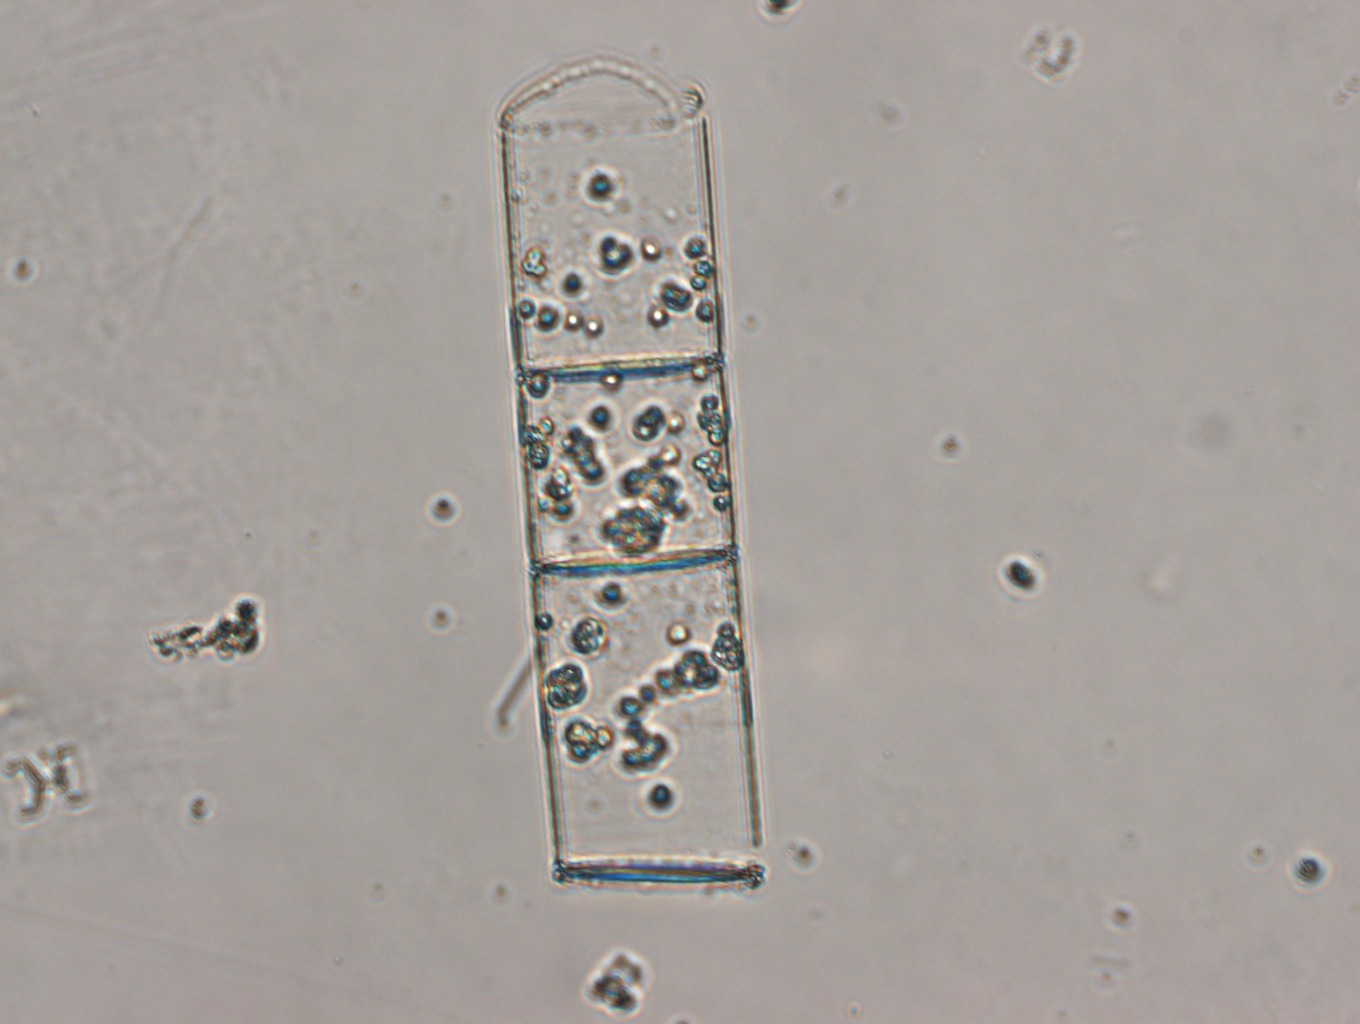guinardia flaccida: (495, 49, 773, 894)
